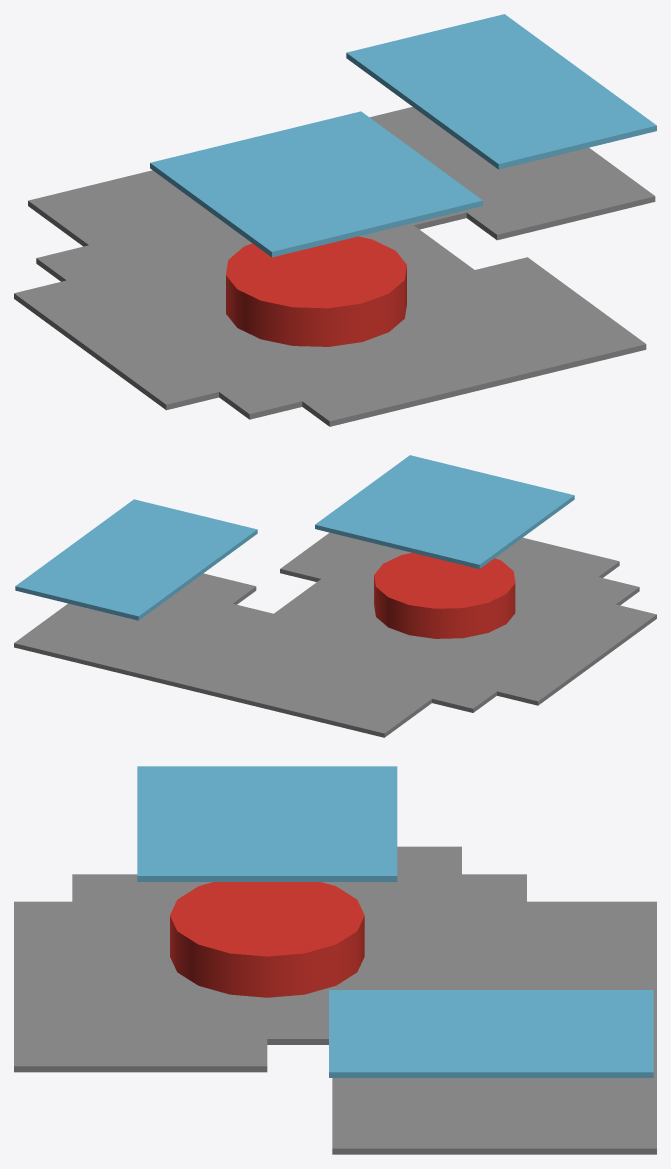
File: boss_room.obj
The picture shows the model from 3 angles, top to bottom: view 1: azimuth 30°, elevation 25°; view 2: azimuth 150°, elevation 25°; view 3: azimuth 270°, elevation 25°; orthographic projection. The views are drawn at different scales.
Visible parts, largest first — view 1: Ground1, Ground7, Cylinder, Ground2, Ground3, Ground4, Ground5; view 2: Ground1, Ground7, Cylinder, Ground2, Ground3, Ground4, Ground6, Ground5; view 3: Ground1, Ground7, Cylinder, Ground2, Ground5, Ground3, Ground4.
Boxes of the visible parts, left/top/right/bottom form: Ground1: left=81, top=111, right=593, bottom=413; Ground7: left=346, top=14, right=656, bottom=240; Cylinder: left=226, top=236, right=406, bottom=346; Ground2: left=28, top=188, right=382, bottom=426; Ground3: left=36, top=245, right=302, bottom=419; Ground4: left=14, top=280, right=218, bottom=410; Ground5: left=475, top=257, right=646, bottom=362; Ground1: left=178, top=455, right=578, bottom=727; Ground7: left=14, top=499, right=257, bottom=677; Cylinder: left=374, top=552, right=515, bottom=638; Ground2: left=343, top=551, right=619, bottom=737; Ground3: left=432, top=577, right=639, bottom=712; Ground4: left=497, top=604, right=656, bottom=705; Ground6: left=137, top=603, right=273, bottom=687; Ground5: left=280, top=532, right=370, bottom=581; Ground1: left=14, top=766, right=656, bottom=1044; Ground7: left=329, top=990, right=656, bottom=1154; Cylinder: left=170, top=882, right=364, bottom=997; Ground2: left=14, top=901, right=656, bottom=929; Ground5: left=14, top=1039, right=267, bottom=1072; Ground3: left=72, top=874, right=526, bottom=901; Ground4: left=397, top=846, right=461, bottom=874.
Bounding box in the file's own units: 110 × 24 × 99.
